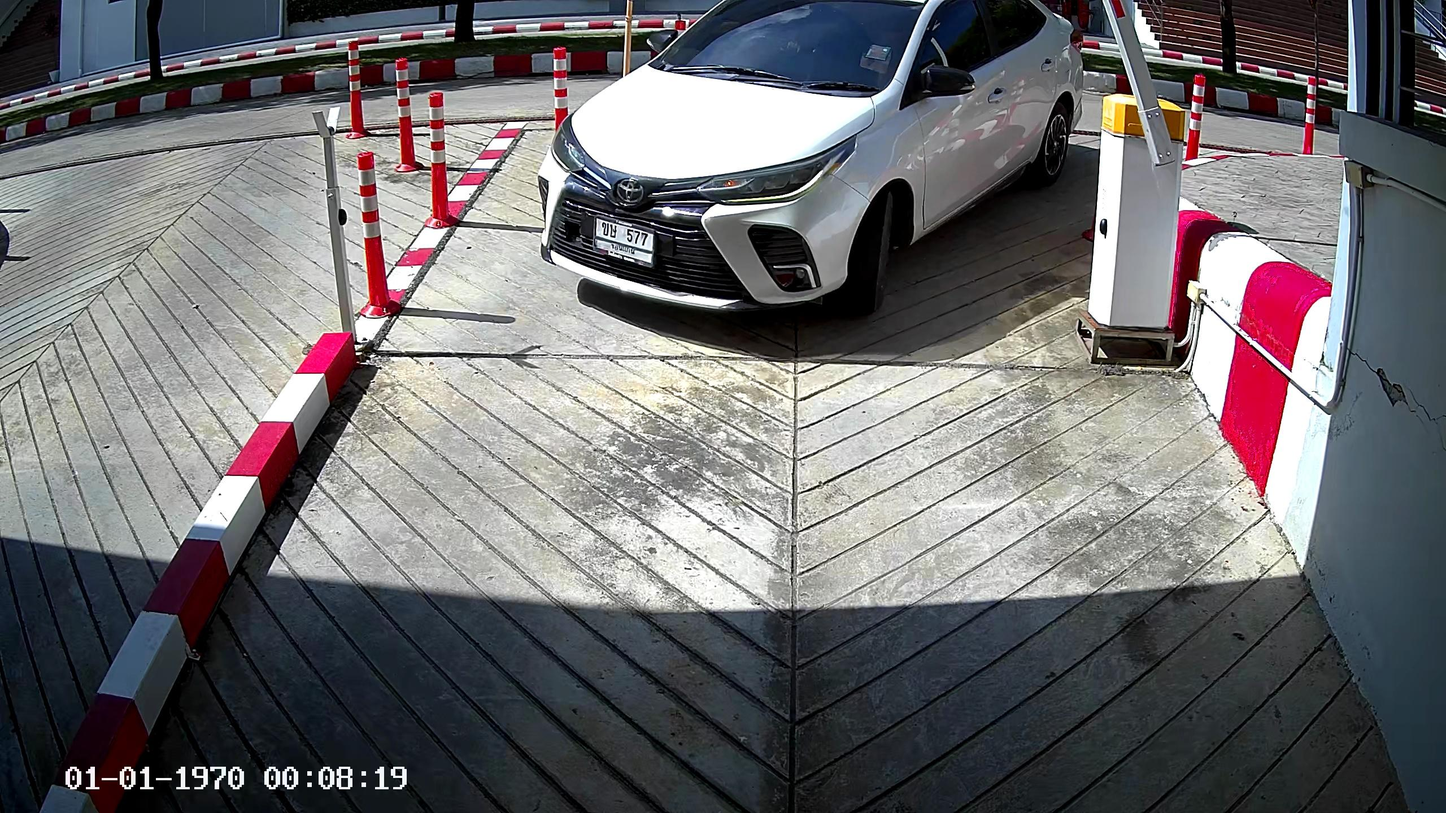car: (539, 2, 1081, 325)
license-plate: (593, 212, 656, 270)
